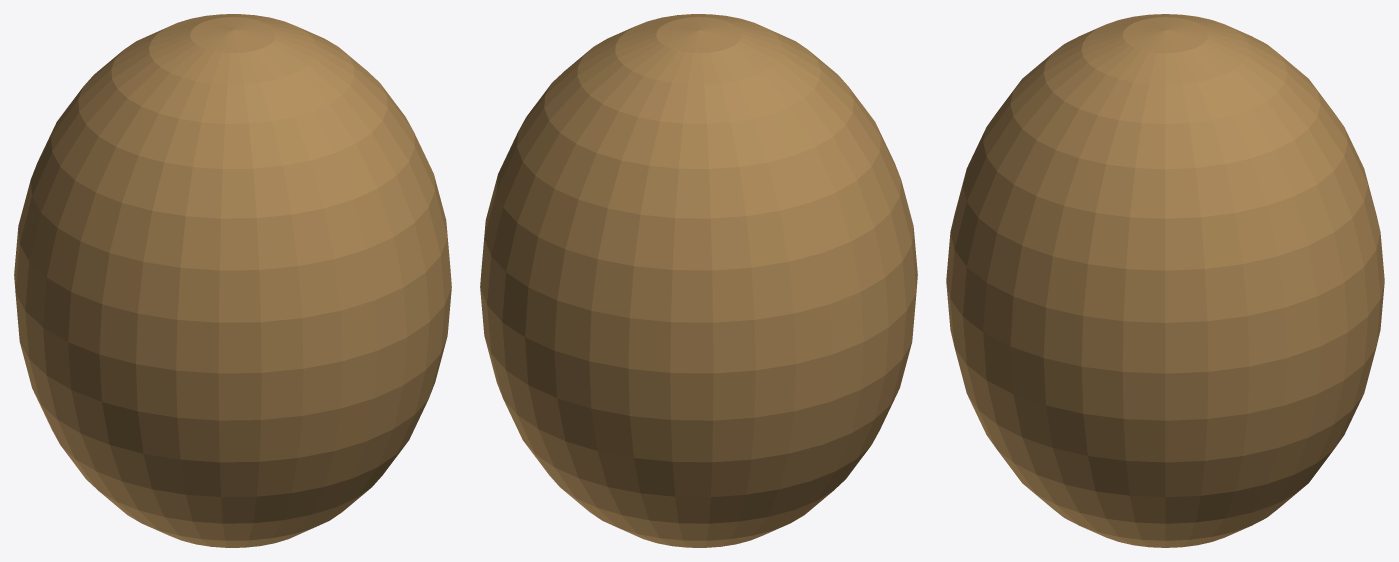
File: Head.fbx
3 renders of one model, left to right at view 1: azimuth 30°, elevation 25°; view 2: azimuth 150°, elevation 25°; view 3: azimuth 270°, elevation 25°, orthographic.
Parts seen in each view (by area): view 1: Sphere; view 2: Sphere; view 3: Sphere.
Part boxes in pixels (left/top/right/bottom): Sphere: left=14, top=14, right=451, bottom=547; Sphere: left=480, top=14, right=917, bottom=547; Sphere: left=946, top=14, right=1384, bottom=547.
Size of the model in its own units: 200 by 200 by 252.
